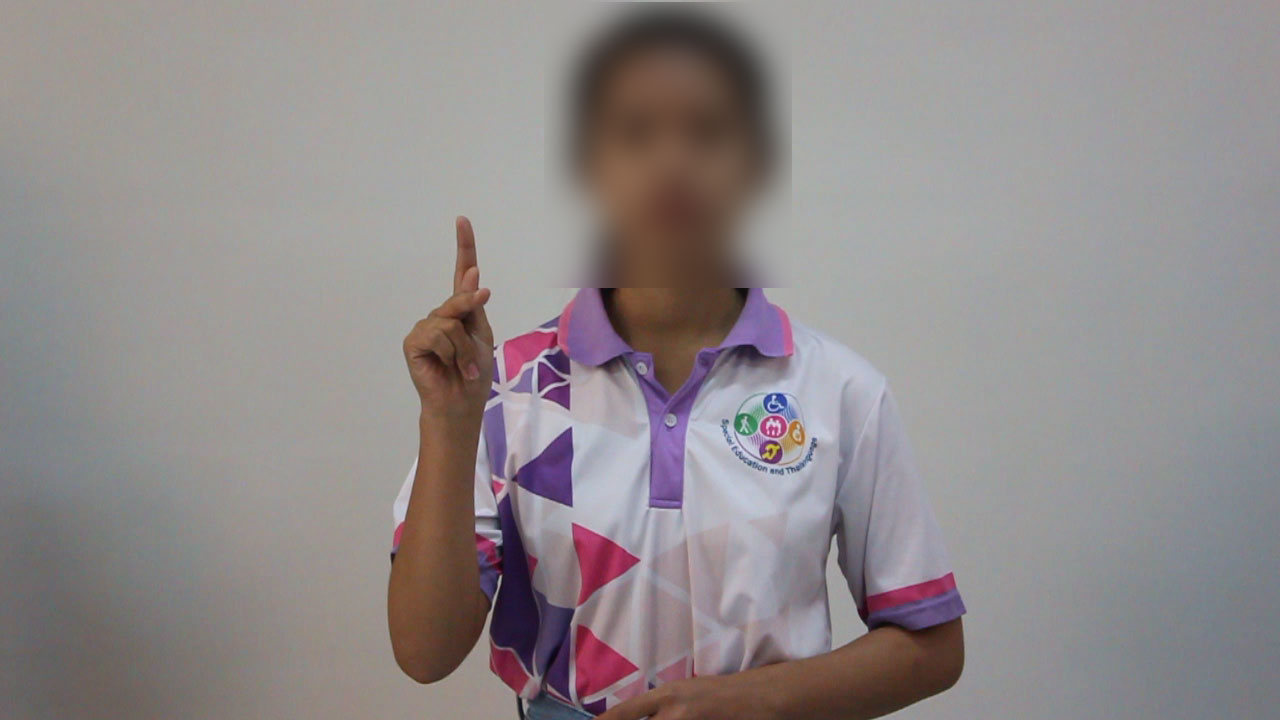ko: (395, 203, 516, 416)
